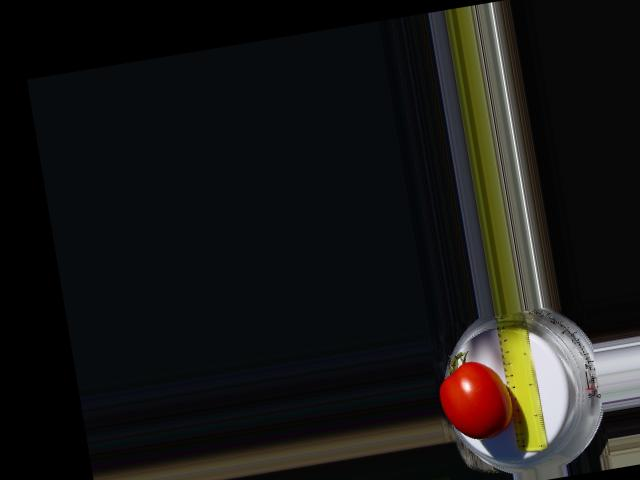tomato: (434, 355, 518, 444)
